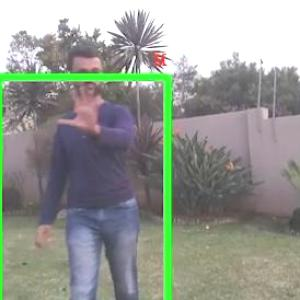follow_hand: (58, 81, 106, 136)
